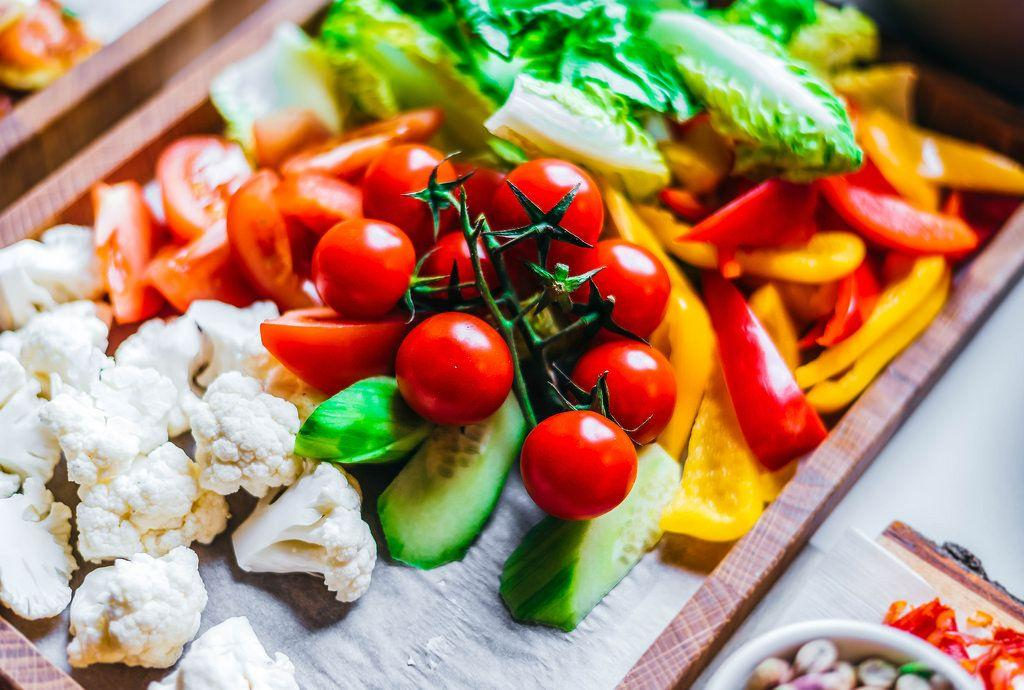cauliflower: (18, 279, 396, 688)
tomato: (302, 149, 718, 519)
